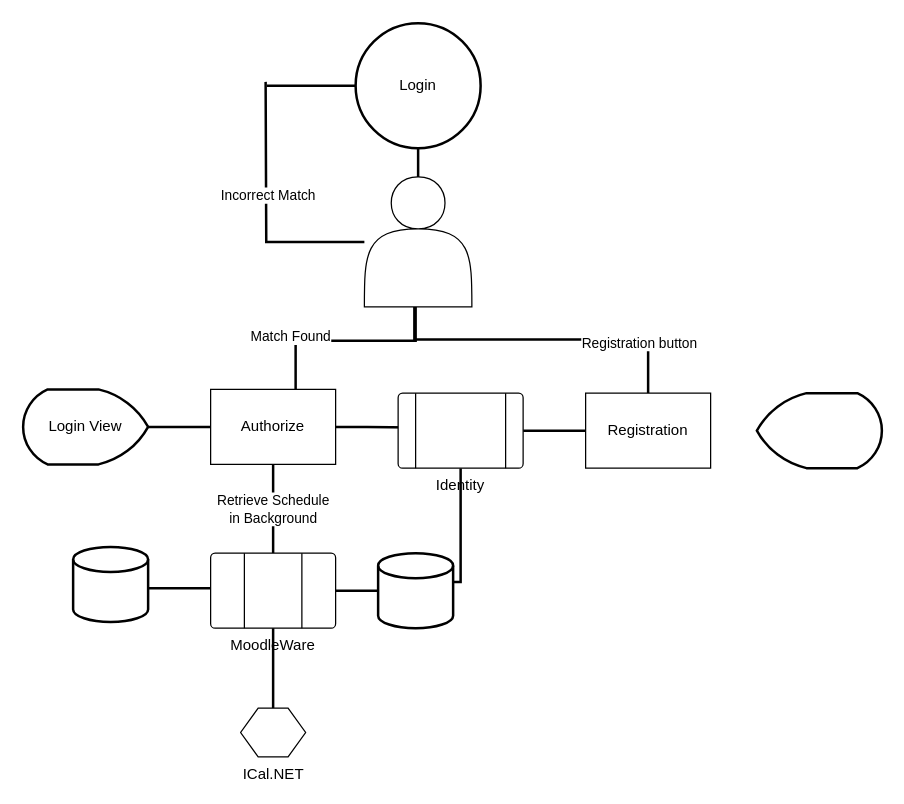
The diagram is 904 pixels wide and 804 high, and some of its shapes have lost their labels. Here are the shapes that lost their labels. From the top down, the box of each, then its label:
(363, 176, 472, 307): input username and password
(71, 545, 149, 622): Moodle
(376, 551, 454, 629): database
